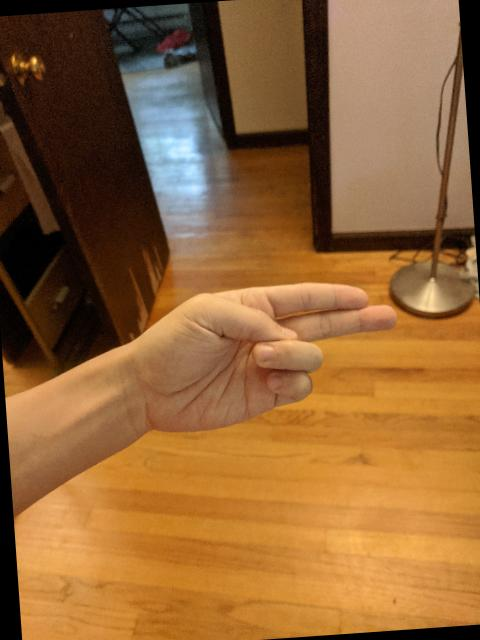H: (126, 269, 413, 441)
